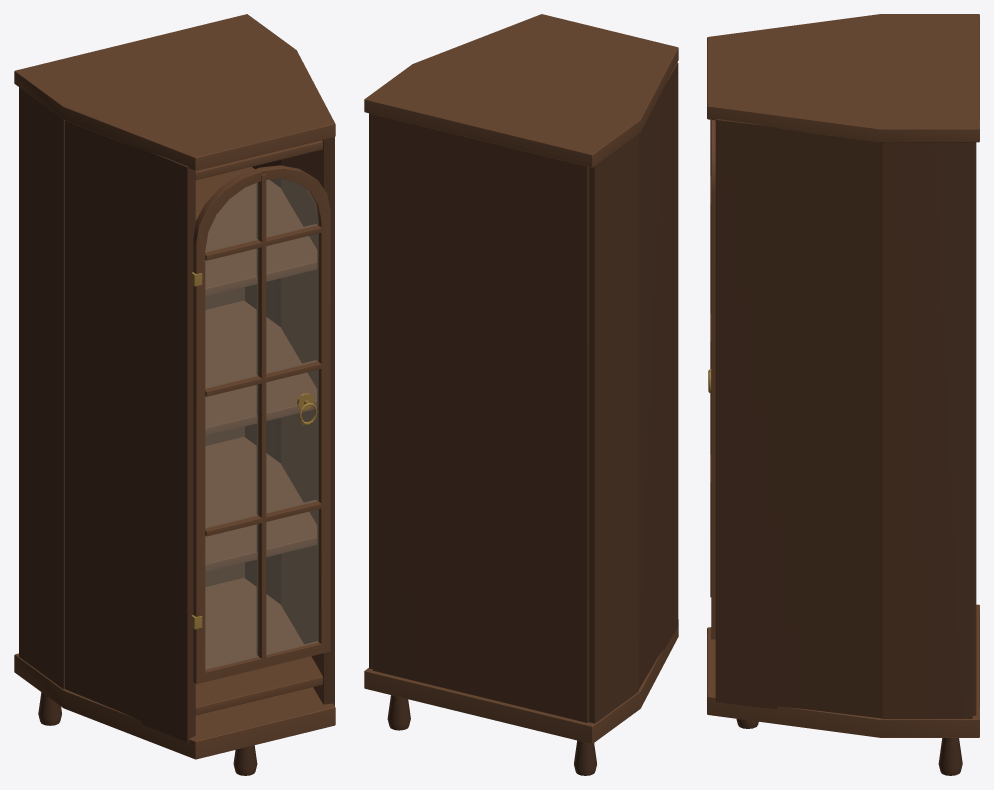
File: rpg-mansion-corner-vitrine-01.glb
3 renders of one model, left to right at view 1: azimuth 30°, elevation 25°; view 2: azimuth 150°, elevation 25°; view 3: azimuth 270°, elevation 25°, orthographic. The views are drawn at different scales.
Visible parts, largest first — view 1: rpg-mansion-corner-vitrine-01; view 2: rpg-mansion-corner-vitrine-01; view 3: rpg-mansion-corner-vitrine-01.
Boxes of the visible parts, x1=… form: rpg-mansion-corner-vitrine-01: x1=14, y1=14, x2=335, y2=775; rpg-mansion-corner-vitrine-01: x1=364, y1=14, x2=678, y2=775; rpg-mansion-corner-vitrine-01: x1=707, y1=14, x2=979, y2=775.
Bounding box in the file's own units: 0.7 × 1.85 × 0.7.
